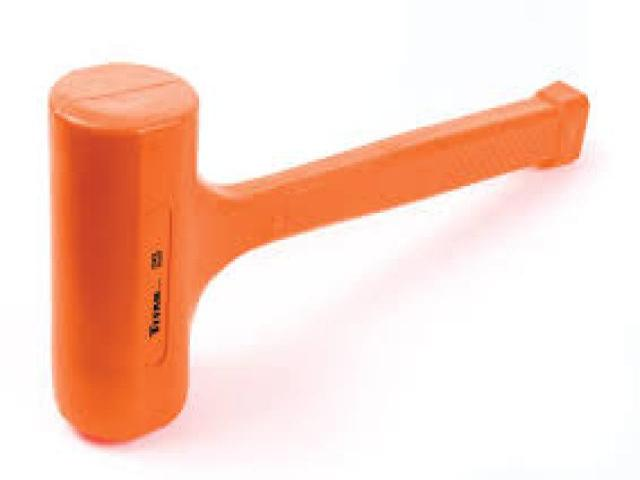hammer: (47, 62, 592, 445)
